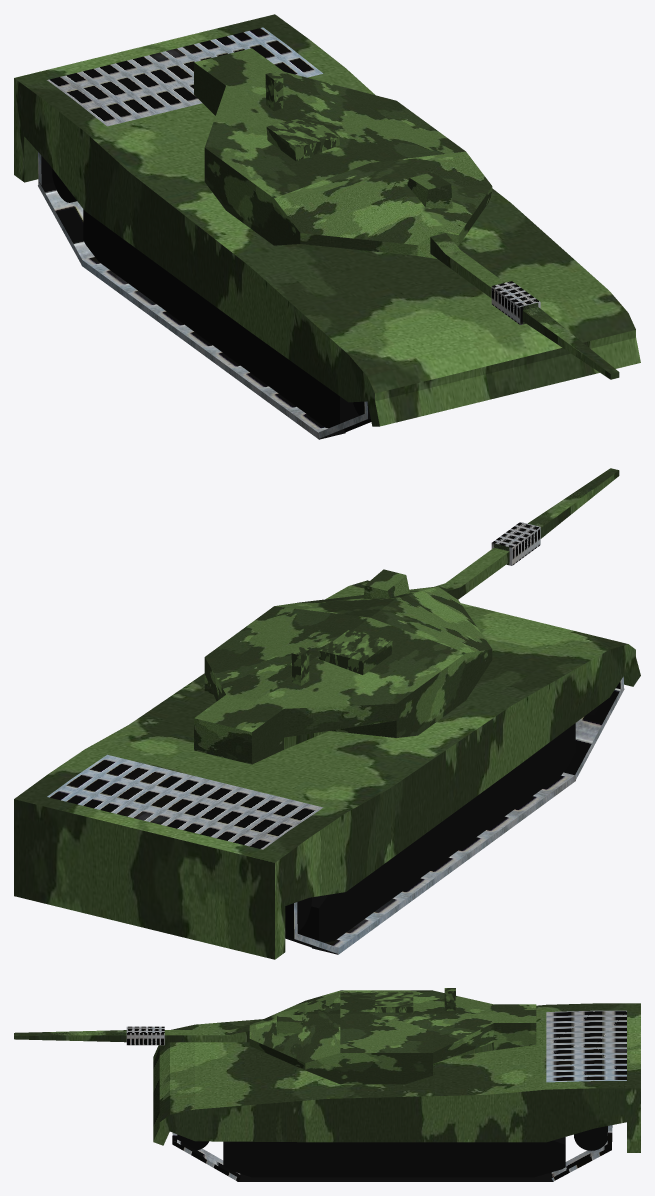
The model's file is TANK2.fbx.
3 renders of one model, top to bottom at view 1: azimuth 30°, elevation 25°; view 2: azimuth 150°, elevation 25°; view 3: azimuth 270°, elevation 25°, orthographic. The views are drawn at different scales.
Visible parts, largest first — view 1: Cube, Cube.002; view 2: Cube, Cube.002; view 3: Cube, Cube.002.
Boxes of the visible parts, x1,y1,x2,y2 form: Cube: [14, 14, 640, 439]; Cube.002: [194, 48, 619, 379]; Cube: [14, 580, 640, 959]; Cube.002: [194, 468, 619, 764]; Cube: [153, 1003, 640, 1181]; Cube.002: [14, 988, 536, 1084].
Bounding box in the file's own units: 378 × 302 × 1179.
3 materials, 2 textured.
